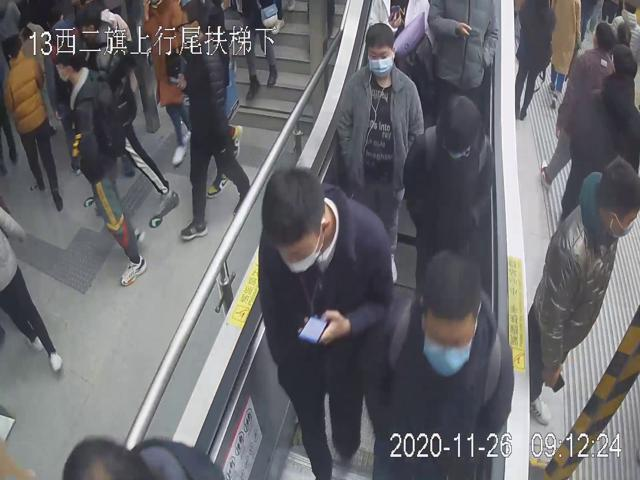person: (258, 164, 393, 480), (358, 247, 515, 480), (527, 154, 640, 430), (332, 21, 424, 288), (51, 42, 148, 286), (403, 92, 496, 291)
